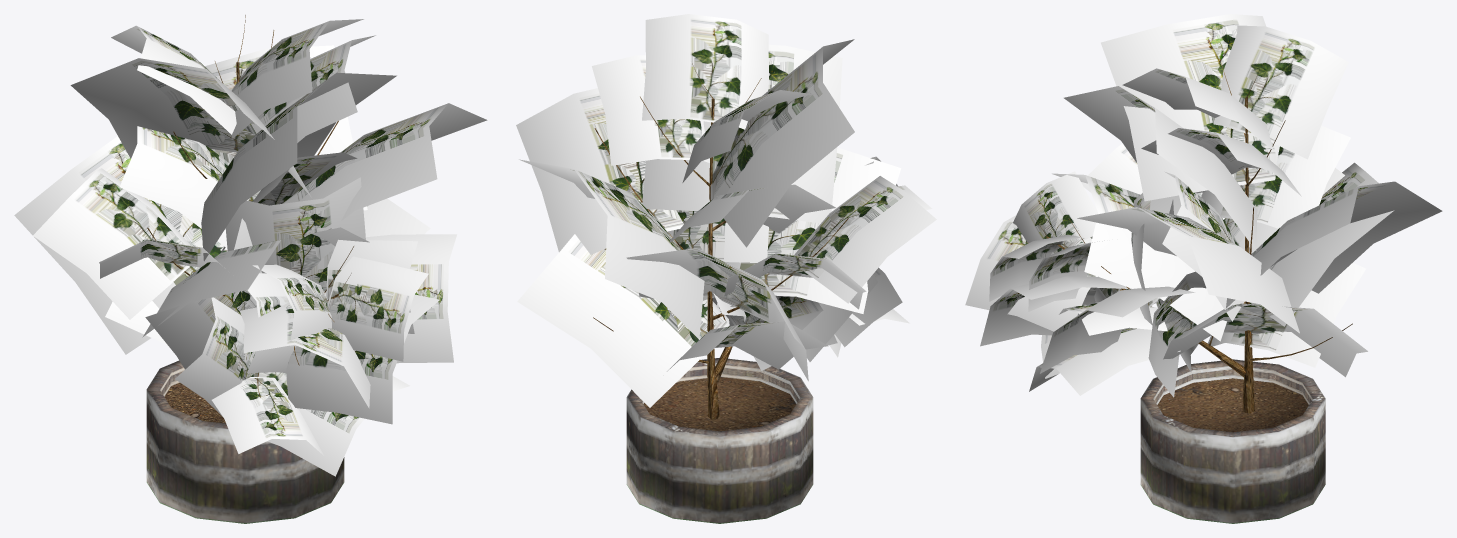
The model's file is potted plant 07.FBX.
3 views of the same model, side by side, from view 1: azimuth 30°, elevation 25°; view 2: azimuth 150°, elevation 25°; view 3: azimuth 270°, elevation 25° (orthographic). The views are drawn at different scales.
Parts seen in each view (by area): view 1: potted plant 07; view 2: potted plant 07; view 3: potted plant 07.
Part boxes in pixels (x1,y1,x2,y2): potted plant 07: (14,15,487,523); potted plant 07: (516,14,936,523); potted plant 07: (965,14,1442,523).
Bounding box in the file's own units: 182 × 194 × 193.
3 materials, 3 textured.
